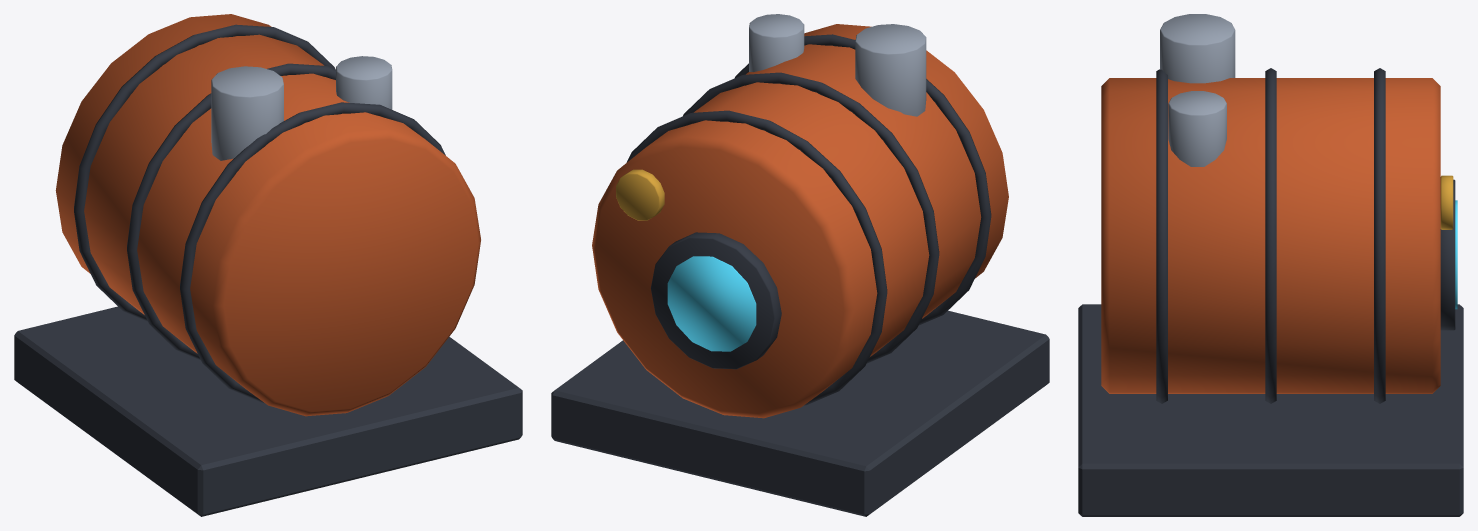
The model's file is steam_boiler_unit.obj.
3 renders of one model, left to right at view 1: azimuth 30°, elevation 25°; view 2: azimuth 150°, elevation 25°; view 3: azimuth 270°, elevation 25°, orthographic. The views are drawn at different scales.
Parts seen in each view (by area): view 1: MainTank, Plinth, Chimney1, Band_-0.52, Band_0.52, Band_0.0, Chimney2; view 2: MainTank, Plinth, FireDoor, FireGlow, Chimney1, Band_0.52, Band_0.0, Band_-0.52, Chimney2, Gauge; view 3: MainTank, Plinth, Chimney1, Band_0.52, Band_0.0, Band_-0.52, Chimney2, FireDoor, Gauge.
Boxes of the visible parts, x1,y1,x2,y2 form: MainTank: (55,14,480,416); Plinth: (14,306,522,516); Chimney1: (211,66,283,160); Band_-0.52: (180,102,445,403); Band_0.52: (74,24,335,321); Band_0.0: (127,63,335,360); Chimney2: (336,56,392,109); MainTank: (592,24,1008,418); Plinth: (551,310,1049,516); FireDoor: (650,232,781,369); FireGlow: (667,256,756,351); Chimney1: (855,24,926,116); Band_0.52: (626,110,887,405); Band_0.0: (683,72,939,363); Band_-0.52: (735,34,991,325); Chimney2: (749,14,804,71); Gauge: (616,169,664,220); MainTank: (1101,78,1440,393); Plinth: (1078,304,1463,516); Chimney1: (1160,14,1235,83); Band_0.52: (1374,68,1385,403); Band_0.0: (1265,68,1276,403); Band_-0.52: (1156,69,1167,403); Chimney2: (1168,91,1226,166); FireDoor: (1440,179,1455,330); Gauge: (1440,175,1453,229).
Size of the model in its own units: 1.84 by 2 by 1.84.
